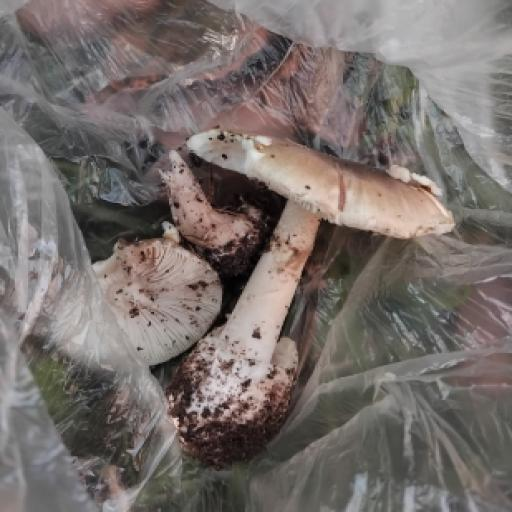Death Cap: (43, 55, 459, 478)
